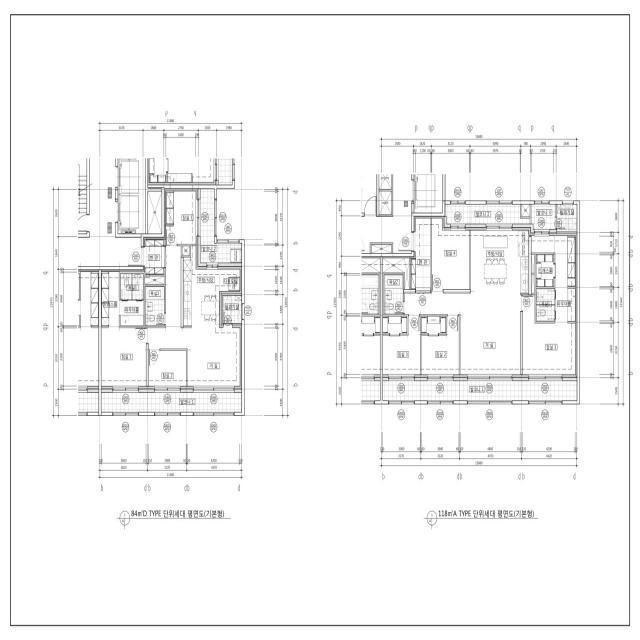space_balconi: (383, 381, 577, 400), (200, 189, 242, 263), (101, 393, 242, 412), (445, 205, 530, 224), (531, 204, 555, 229)
space_bedroom: (523, 295, 575, 377), (101, 328, 146, 389), (432, 218, 469, 289), (383, 316, 420, 377), (422, 316, 459, 377), (166, 191, 198, 244), (149, 351, 186, 389)
space_dressroom: (101, 272, 119, 326), (536, 255, 554, 286)
space_elevator: (414, 174, 443, 213), (118, 195, 145, 234), (118, 158, 145, 195)
space_elevator_hall: (78, 158, 141, 266), (361, 174, 414, 253)
space_front: (411, 218, 430, 291), (143, 239, 165, 275)
space_kitchen: (471, 228, 529, 293), (184, 246, 220, 326)
space_living_room: (149, 246, 240, 389), (405, 293, 521, 377)
space_other: (531, 236, 575, 321), (383, 258, 409, 289), (120, 300, 144, 326), (148, 191, 162, 234), (220, 267, 240, 291), (379, 191, 392, 215), (379, 174, 392, 189), (371, 245, 392, 253), (531, 255, 535, 293), (145, 276, 164, 284), (521, 205, 530, 217), (182, 246, 190, 256)
space_outdoor_room: (557, 204, 577, 231), (222, 296, 242, 323)
space_staircase: (78, 159, 87, 234)
space_toilet: (145, 286, 164, 326), (384, 275, 403, 314), (120, 273, 143, 300), (536, 289, 555, 321)
